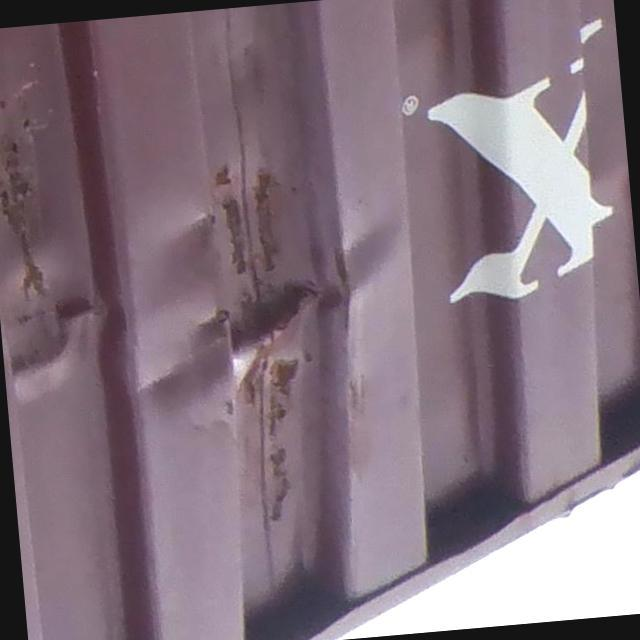dent: (1, 197, 423, 441)
